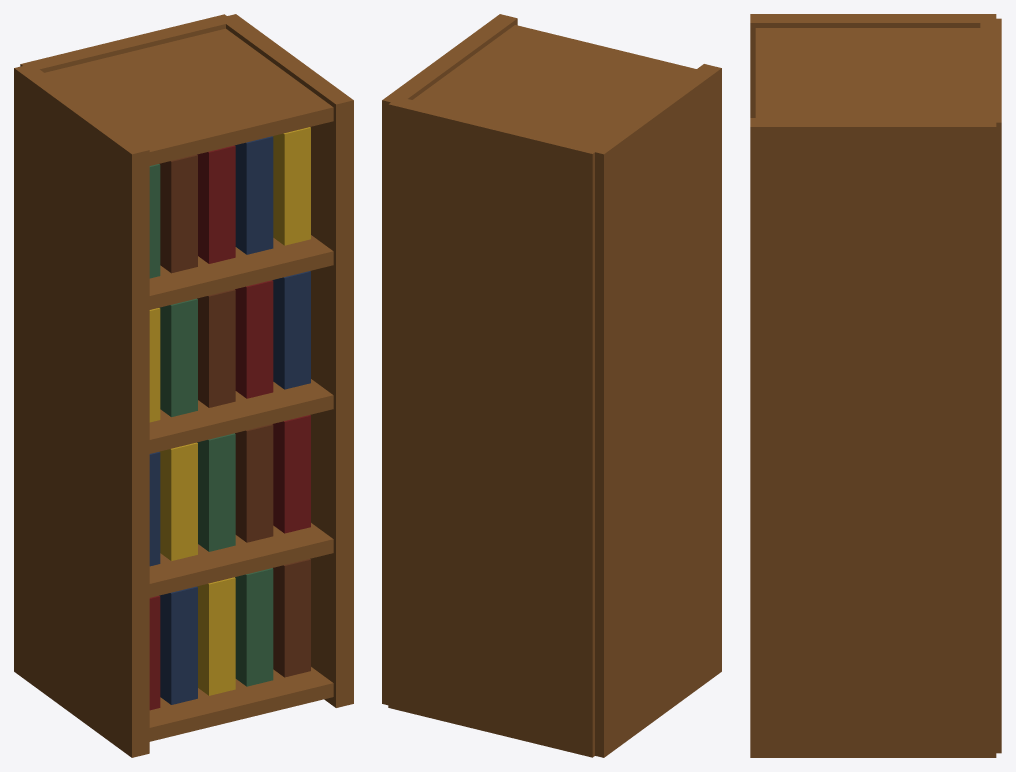
Rendered from decor_ancient_1.glb.
3 views of the same model, side by side, from view 1: azimuth 30°, elevation 25°; view 2: azimuth 150°, elevation 25°; view 3: azimuth 270°, elevation 25° (orthographic). The views are drawn at different scales.
Size of the model in its own units: 0.5 by 1.3 by 0.47.
